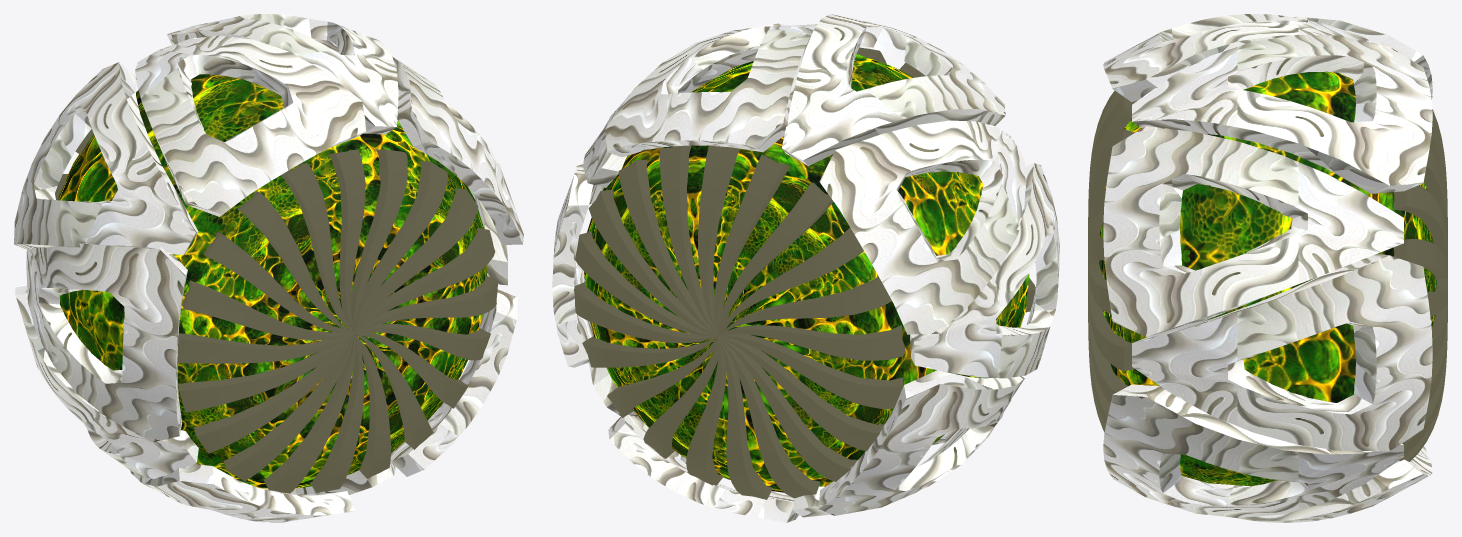
The model's file is RollingBalls_Sci-fi_1_2.glb.
3 renders of one model, left to right at view 1: azimuth 30°, elevation 25°; view 2: azimuth 150°, elevation 25°; view 3: azimuth 270°, elevation 25°, orthographic. The views are drawn at different scales.
Parts seen in each view (by area): view 1: RollingBalls_Sci-fi_1_2; view 2: RollingBalls_Sci-fi_1_2; view 3: RollingBalls_Sci-fi_1_2.
Part boxes in pixels (box(x1,y1,x2,y2)): RollingBalls_Sci-fi_1_2: box(14, 14, 523, 522); RollingBalls_Sci-fi_1_2: box(552, 14, 1059, 522); RollingBalls_Sci-fi_1_2: box(1088, 14, 1447, 522).
Size of the model in its own units: 1.55 by 1.57 by 1.11.
3 materials, 2 textured.
